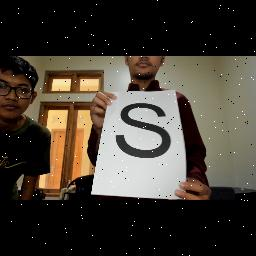s: (110, 97, 172, 165)
